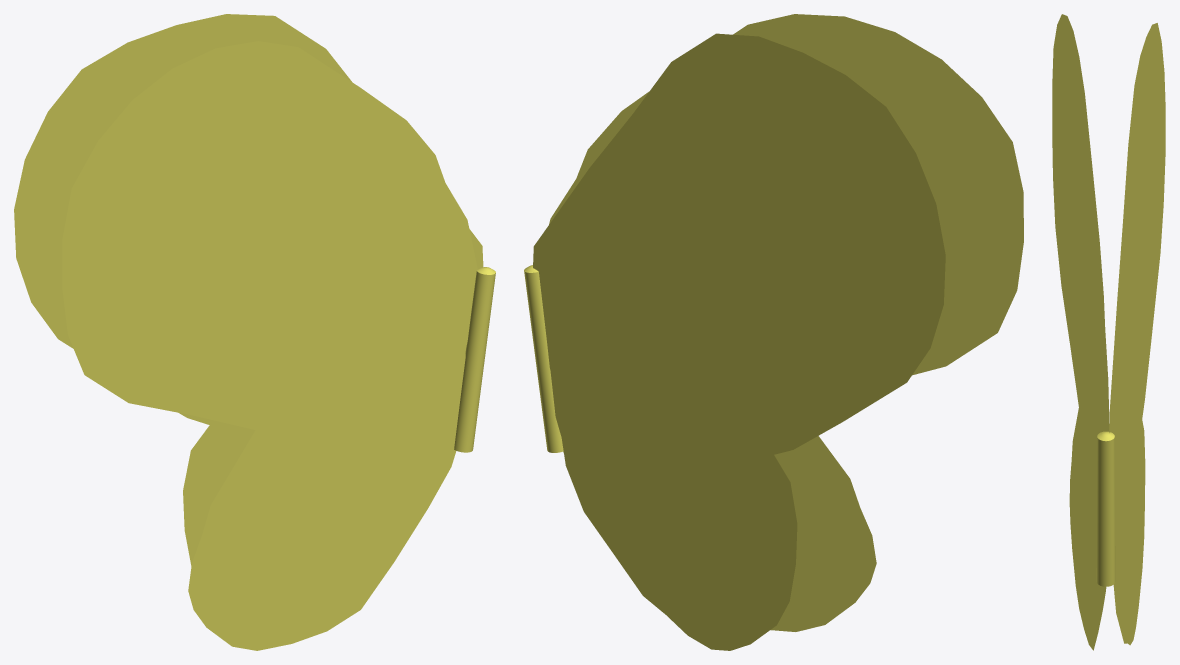
Rendered from scarabSwallowtail.fbx.
3 views of the same model, side by side, from view 1: azimuth 30°, elevation 25°; view 2: azimuth 150°, elevation 25°; view 3: azimuth 270°, elevation 25° (orthographic). The views are drawn at different scales.
Visible parts, largest first — view 1: pCylinder2; view 2: pCylinder2; view 3: pCylinder2.
Boxes of the visible parts, left/top/right/bottom form: pCylinder2: left=14, top=14, right=495, bottom=650; pCylinder2: left=524, top=14, right=1023, bottom=650; pCylinder2: left=1052, top=14, right=1165, bottom=650.
Bounding box in the file's own units: 12.83 × 16.56 × 3.01.
